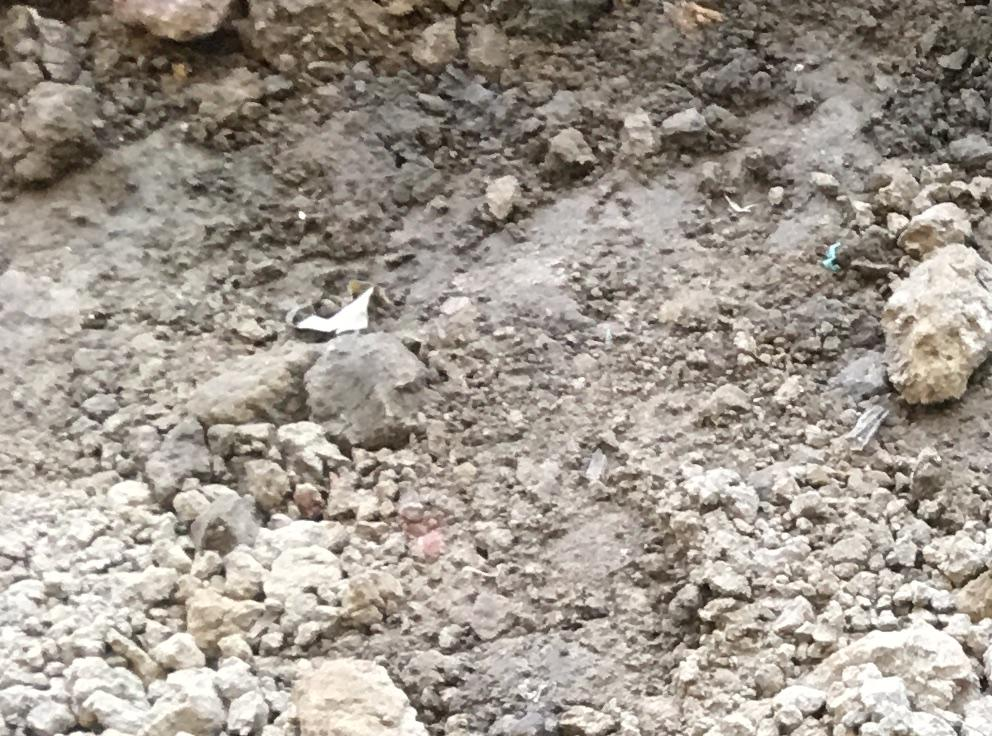block: (877, 243, 992, 402), (301, 334, 423, 449), (289, 662, 419, 736)
